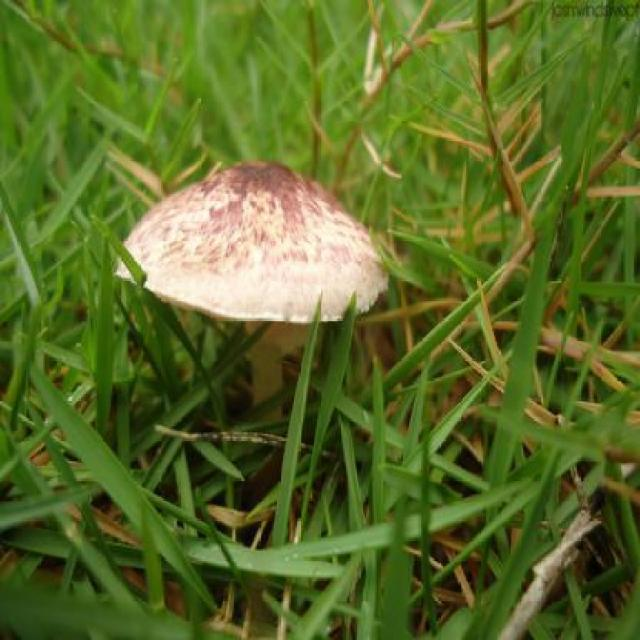Mushroom: (116, 162, 384, 455)
